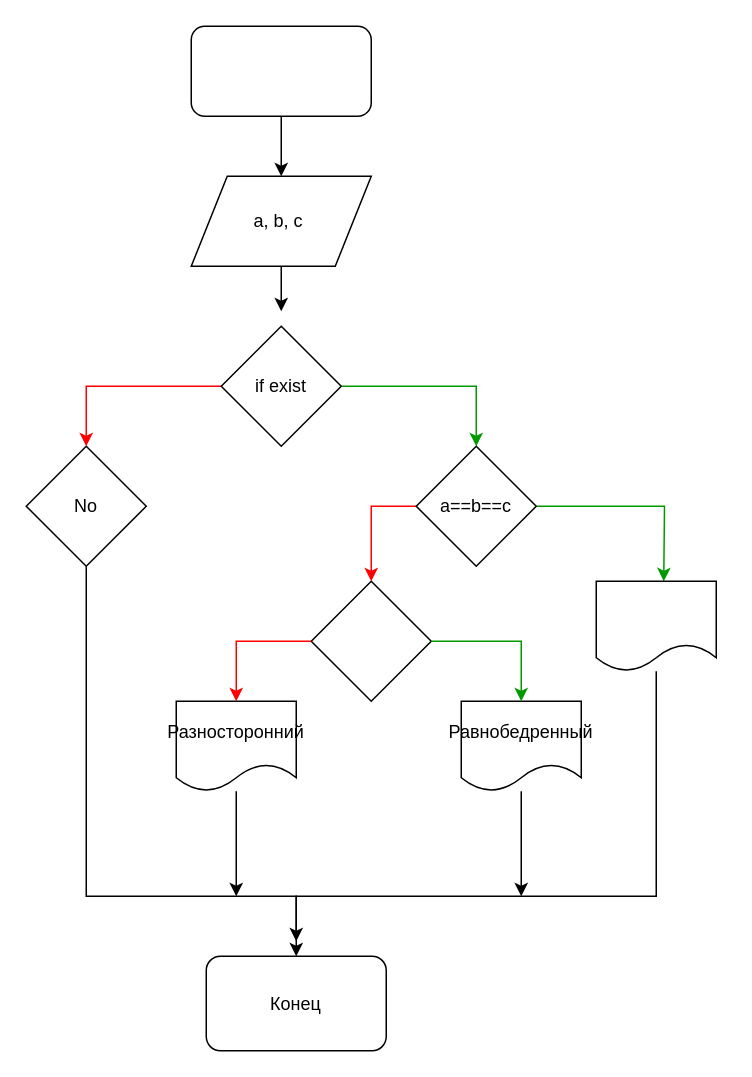
The diagram is 752 pixels wide and 1077 high, and some of its shapes have lost their labels. Each missing label, with the box of its shape:
a==b / a==c/ b==c: (310, 580, 431, 701)
Начало: (190, 25, 371, 116)
Равносторонний: (595, 580, 716, 671)
